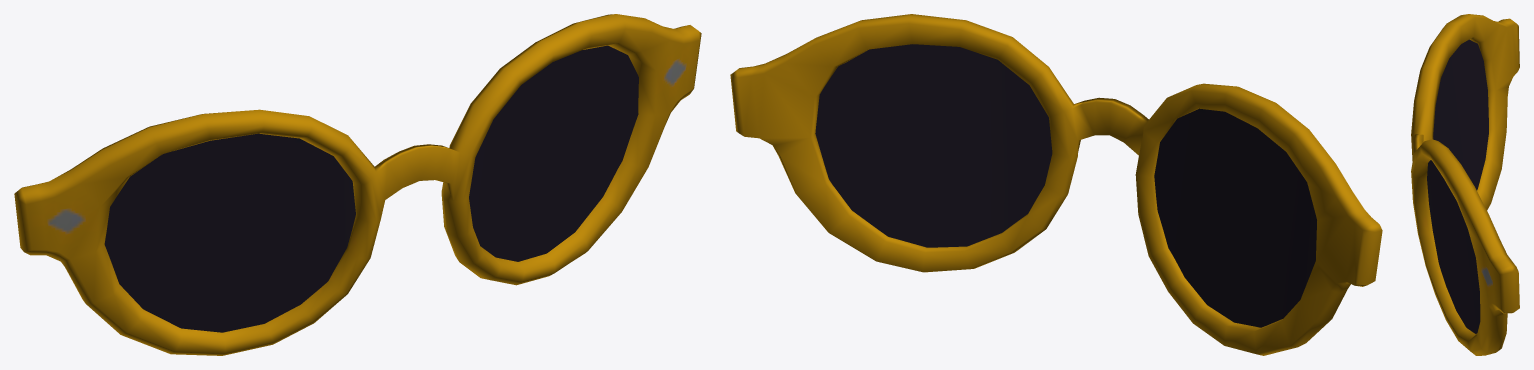
The model's file is AccessoryGlassBoston3.glb.
3 views of the same model, side by side, from view 1: azimuth 30°, elevation 25°; view 2: azimuth 150°, elevation 25°; view 3: azimuth 270°, elevation 25° (orthographic). The views are drawn at different scales.
Parts seen in each view (by area): view 1: AccessoryAlpha__AccessoryGlassBostonBlackHigh_mAccessory; view 2: AccessoryAlpha__AccessoryGlassBostonBlackHigh_mAccessory; view 3: AccessoryAlpha__AccessoryGlassBostonBlackHigh_mAccessory.
Boxes of the visible parts, <box> form: AccessoryAlpha__AccessoryGlassBostonBlackHigh_mAccessory: <box>14,14,701,355</box>; AccessoryAlpha__AccessoryGlassBostonBlackHigh_mAccessory: <box>730,14,1382,355</box>; AccessoryAlpha__AccessoryGlassBostonBlackHigh_mAccessory: <box>1411,14,1519,355</box>.
Bounding box in the file's own units: 6.82 × 2.42 × 1.24.
Materials: 1 (1 with a texture image).
